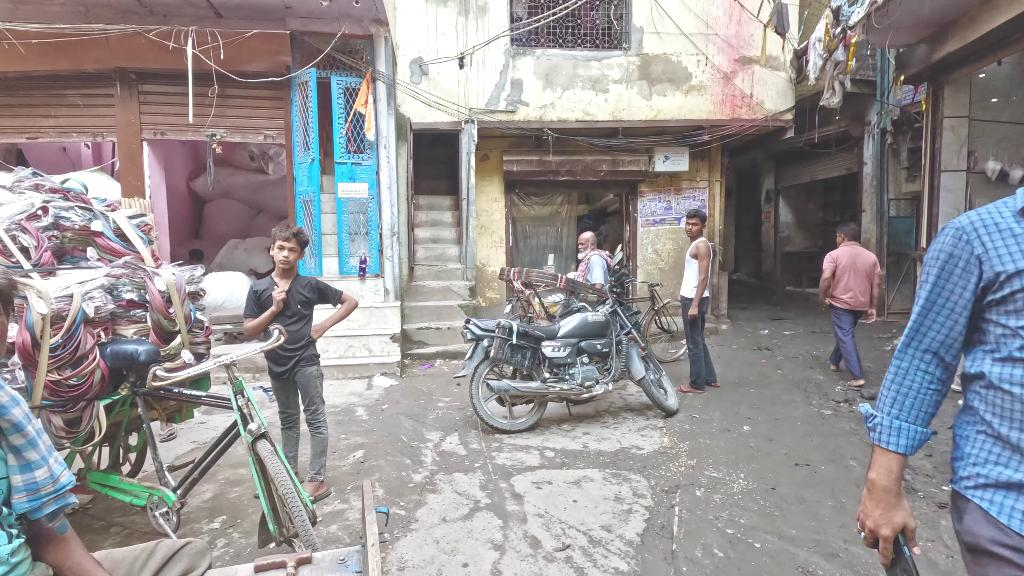garbage: (370, 370, 400, 394)
